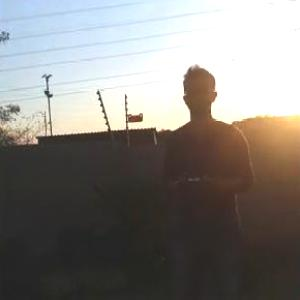follow: (160, 61, 260, 299)
